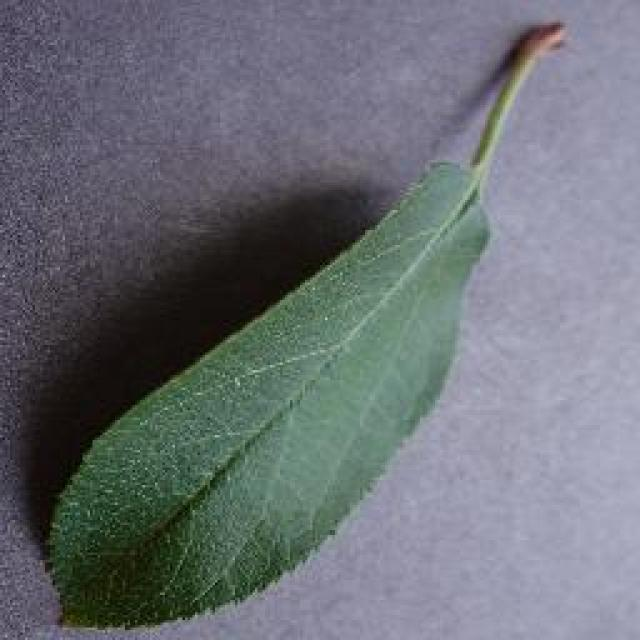apple healthy: (40, 15, 570, 630)
